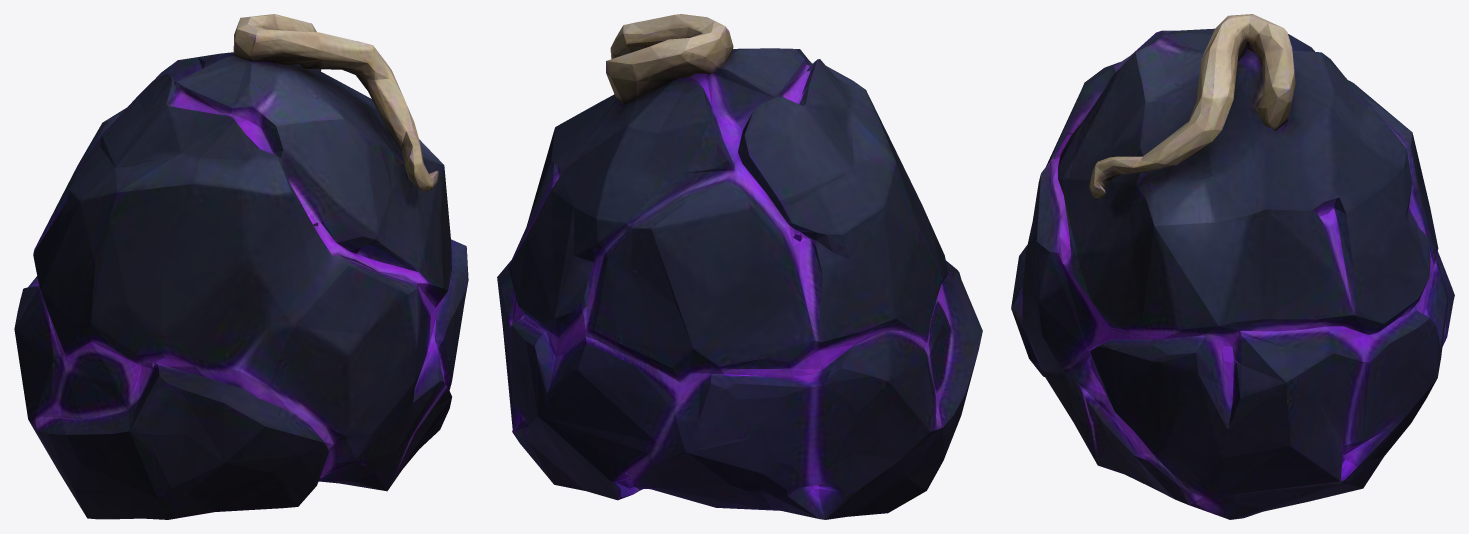
Rendered from d_abimes_rocher.glb.
3 renders of one model, left to right at view 1: azimuth 30°, elevation 25°; view 2: azimuth 150°, elevation 25°; view 3: azimuth 270°, elevation 25°, orthographic. The views are drawn at different scales.
Parts seen in each view (by area): view 1: geometry_0; view 2: geometry_0; view 3: geometry_0.
Boxes of the visible parts, x1,y1,x2,y2 form: geometry_0: (14,14,468,519); geometry_0: (497,14,982,519); geometry_0: (1011,14,1454,519).
Size of the model in its own units: 0.9509 by 1 by 0.8923.
Materials: 1 (1 with a texture image).
